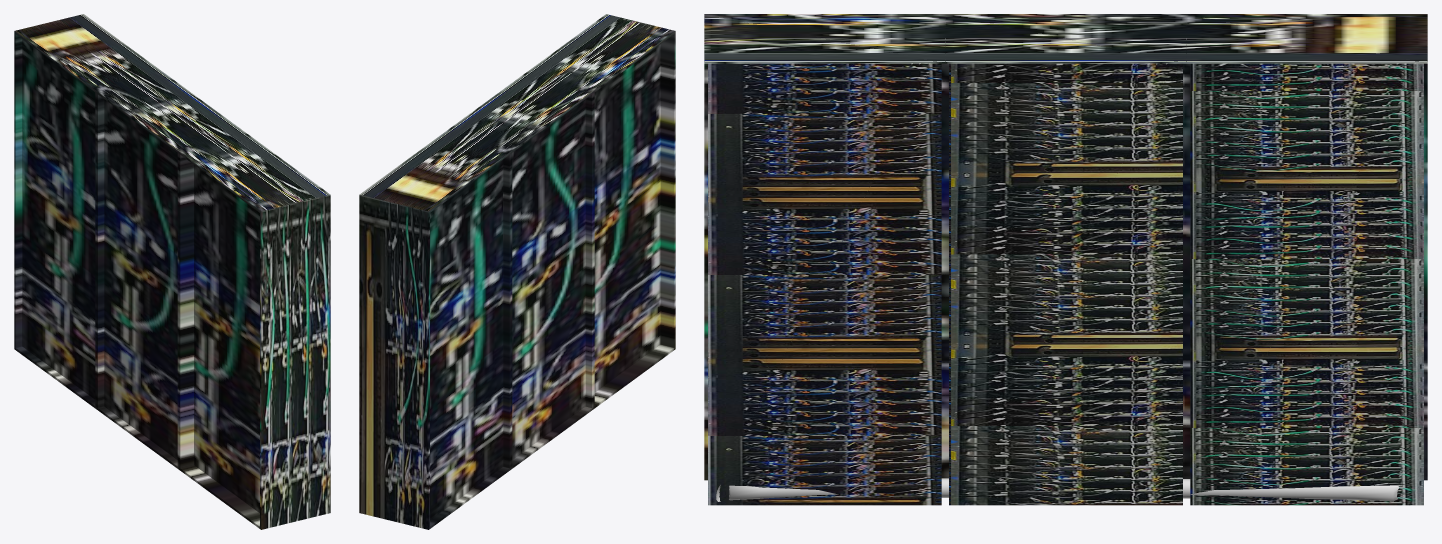
File: Servers.fbx
3 renders of one model, left to right at view 1: azimuth 30°, elevation 25°; view 2: azimuth 150°, elevation 25°; view 3: azimuth 270°, elevation 25°, orthographic. The views are drawn at different scales.
Parts seen in each view (by area): view 1: Cube.002, Cube.001; view 2: Cube.002, Cube.001; view 3: Cube.003, Cube.001, BezierCurve.001.
Boxes of the visible parts, x1,y1,x2,y2 form: Cube.002: (22,39,259,512); Cube.001: (14,14,330,529); Cube.002: (430,39,667,519); Cube.001: (359,14,675,529); Cube.003: (708,63,1423,505); Cube.001: (704,14,1427,480); BezierCurve.001: (716,478,1400,501).
Bounding box in the file's own units: 1604 × 7031 × 9881.
